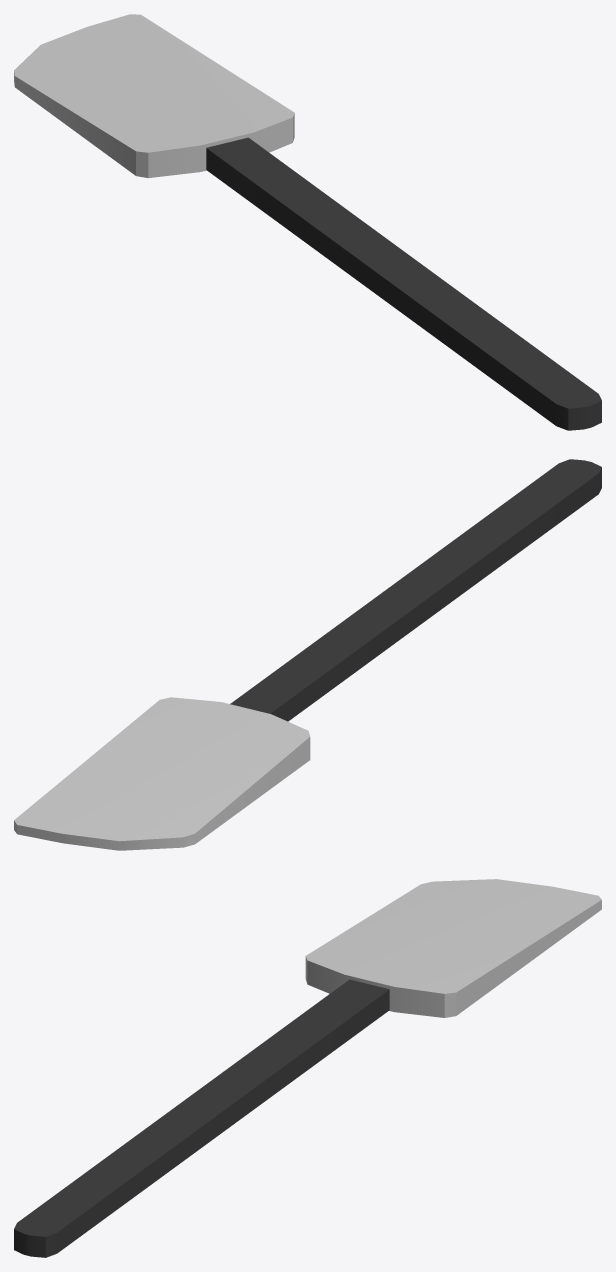
The model's file is Rubber_Spatula.FBX.
The picture shows the model from 3 angles, top to bottom: view 1: azimuth 30°, elevation 25°; view 2: azimuth 150°, elevation 25°; view 3: azimuth 330°, elevation 25°; orthographic projection. The views are drawn at different scales.
Visible parts, largest first — view 1: Rubber_Spatula; view 2: Rubber_Spatula; view 3: Rubber_Spatula.
Boxes of the visible parts, box(x1,y1,x2,y2) form: Rubber_Spatula: box(14, 14, 601, 430); Rubber_Spatula: box(14, 459, 601, 850); Rubber_Spatula: box(14, 879, 601, 1257).
Bounding box in the file's own units: 15 × 2.41 × 86.77.
